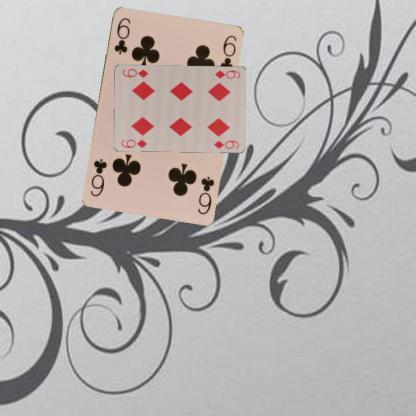6c: (194, 174, 216, 216), (111, 15, 132, 56)
6d: (212, 67, 242, 80), (119, 136, 149, 149)
